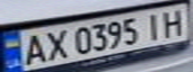0: (69, 24, 93, 55)
3: (90, 20, 109, 52)
5: (121, 15, 145, 46)
9: (106, 18, 127, 48)
A: (15, 32, 51, 66)
H: (157, 6, 190, 38)
I: (139, 10, 169, 40)
X: (39, 27, 72, 62)
